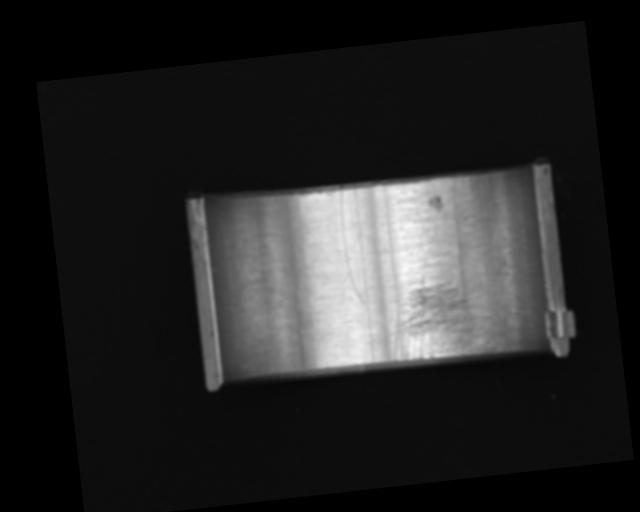bruise: (426, 193, 443, 213)
nick: (336, 185, 366, 308)
scratch: (380, 266, 498, 365)
